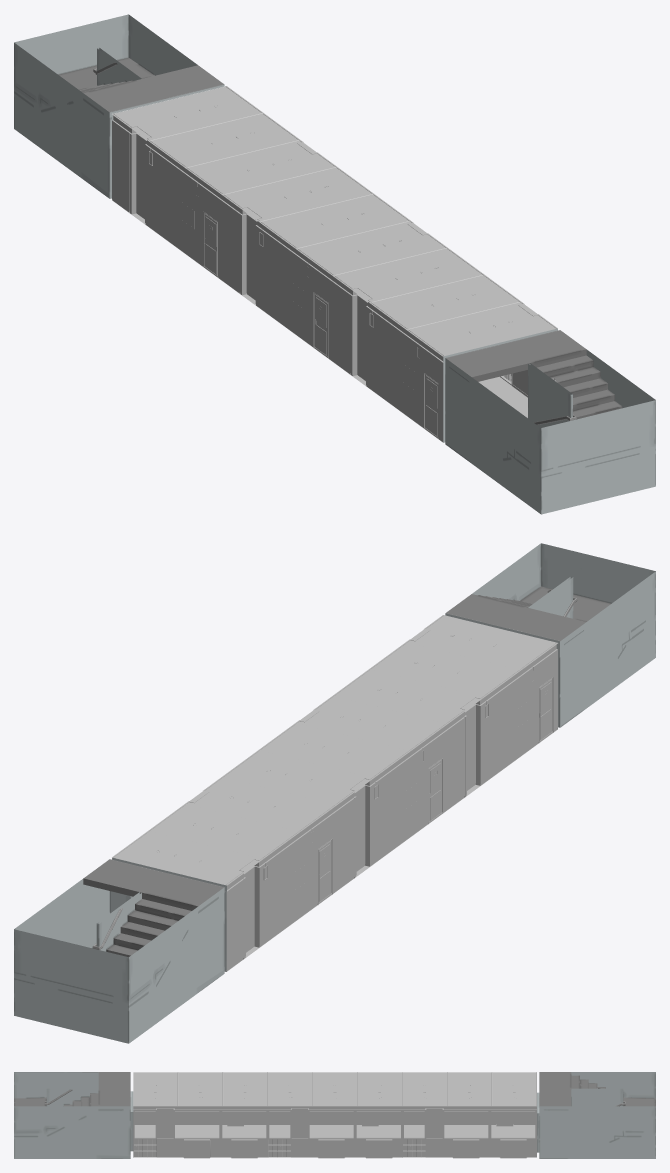
The model's file is hallway.obj.
3 renders of one model, top to bottom at view 1: azimuth 30°, elevation 25°; view 2: azimuth 150°, elevation 25°; view 3: azimuth 270°, elevation 25°, orthographic. The views are drawn at different scales.
Visible parts, largest first — view 1: hallway:Mesh; view 2: hallway:Mesh; view 3: hallway:Mesh.
Boxes of the visible parts, left/top/right/bottom form: hallway:Mesh: left=14, top=14, right=655, bottom=514; hallway:Mesh: left=14, top=543, right=655, bottom=1043; hallway:Mesh: left=14, top=1072, right=655, bottom=1158.
Bounding box in the file's own units: 4.67 × 3.35 × 37.
